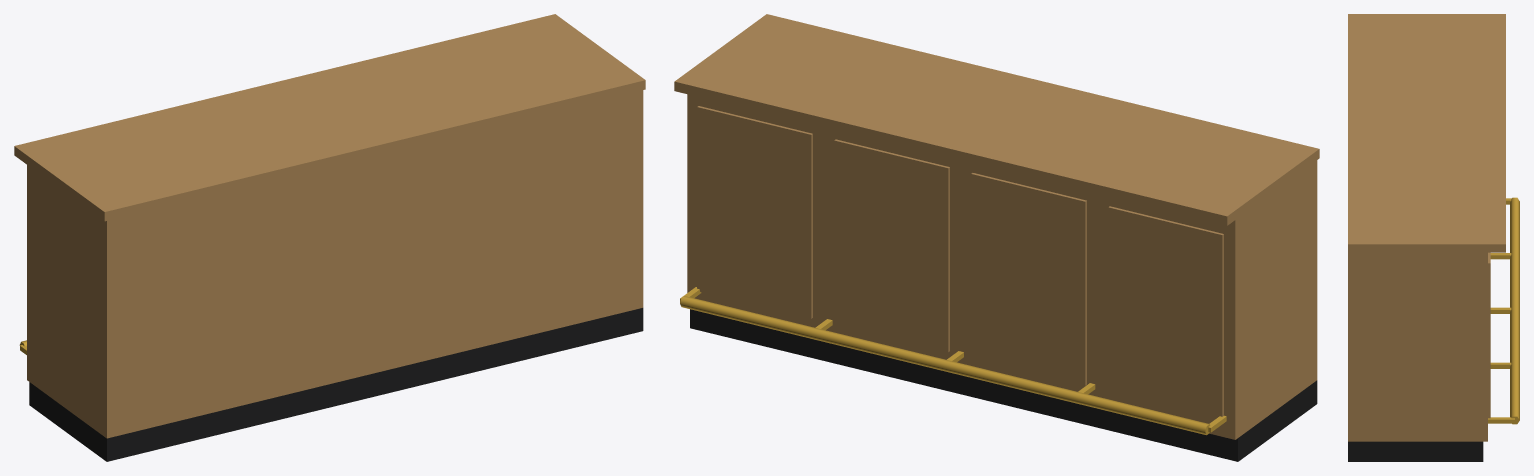
File: parametric-bar-2nd-pub.glb
3 views of the same model, side by side, from view 1: azimuth 30°, elevation 25°; view 2: azimuth 150°, elevation 25°; view 3: azimuth 270°, elevation 25° (orthographic). The views are drawn at different scales.
Parts seen in each view (by area): view 1: parametric-bar-2nd-pub; view 2: parametric-bar-2nd-pub; view 3: parametric-bar-2nd-pub.
Part boxes in pixels (x1,y1,x2,y2): parametric-bar-2nd-pub: [14, 14, 645, 461]; parametric-bar-2nd-pub: [674, 14, 1319, 461]; parametric-bar-2nd-pub: [1348, 14, 1519, 461].
Size of the model in its own units: 2.42 by 1.07 by 0.762.
